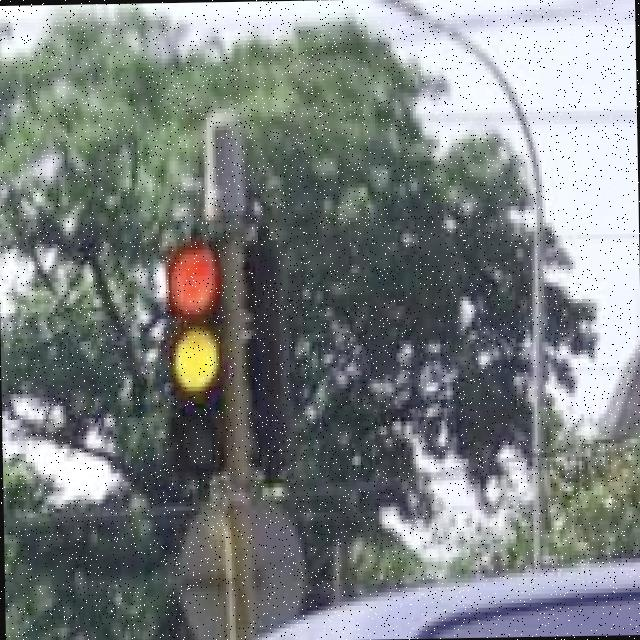Zolte swiatlo: (156, 237, 230, 480)
